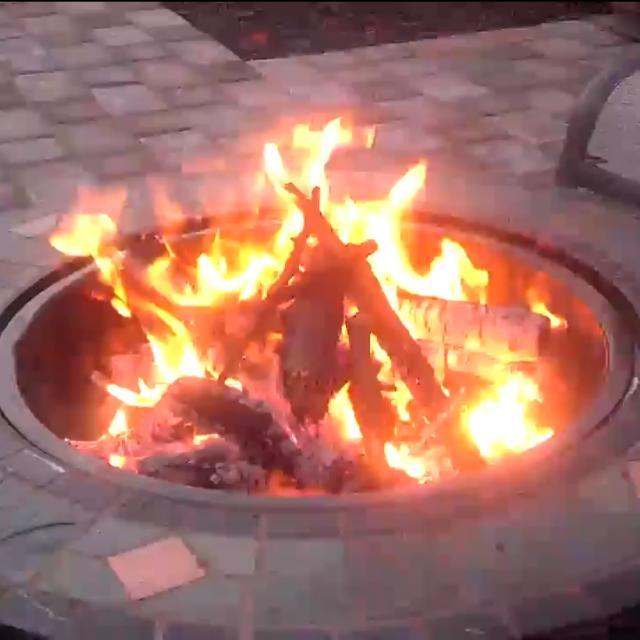Fire: (45, 116, 558, 462)
